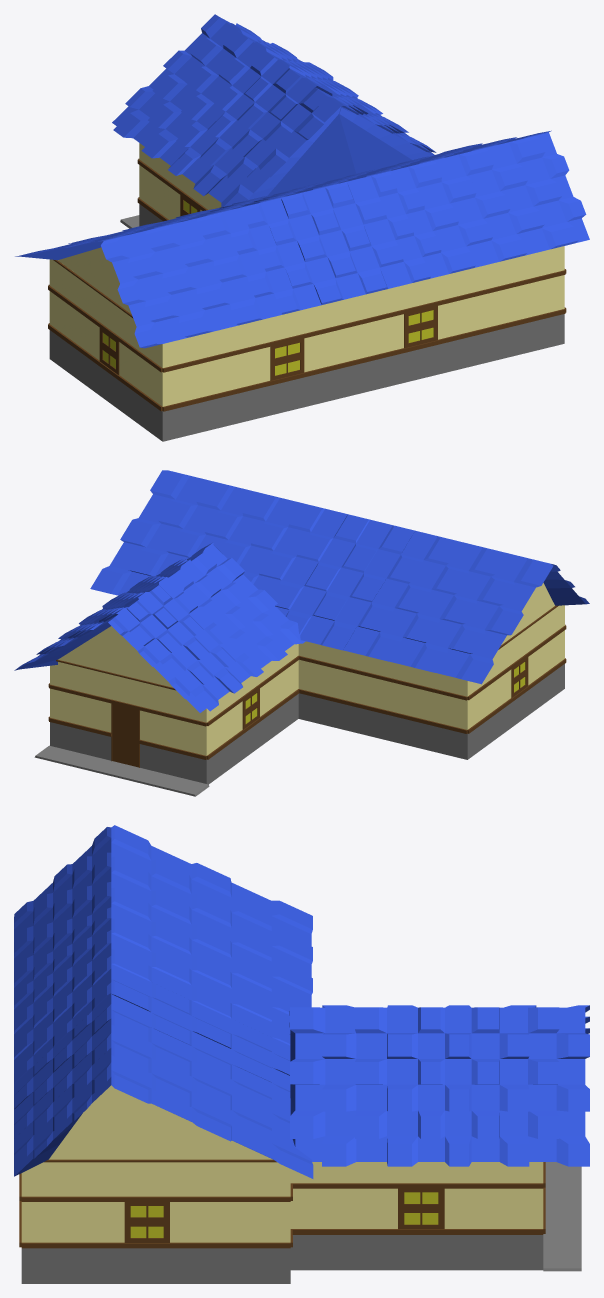
File: casa09.fbx
The picture shows the model from 3 angles, top to bottom: view 1: azimuth 30°, elevation 25°; view 2: azimuth 150°, elevation 25°; view 3: azimuth 270°, elevation 25°; orthographic projection. The views are drawn at different scales.
Visible parts, largest first — view 1: Cube, T, Cube.001; view 2: Cube, T, Cube.001; view 3: T, Cube, Cube.001.
Part boxes in pixels (x1,y1,x2,y2): Cube: (48,143,566,441); T: (15,130,589,348); Cube.001: (112,14,436,206); Cube: (34,583,566,796); T: (90,470,589,684); Cube.001: (14,542,305,712); T: (14,825,313,1178); Cube: (19,1085,581,1283); Cube.001: (289,1005,589,1166).
Bounding box in the file's own units: 1364 × 519 × 1261.
